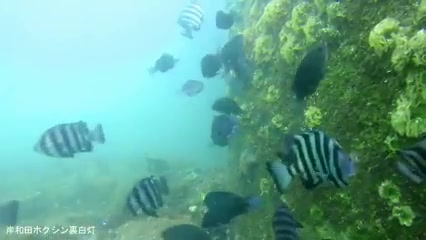ishidai: (268, 126, 359, 189), (34, 110, 113, 157), (119, 175, 174, 219), (175, 1, 207, 44)
smallfish: (175, 80, 205, 100)
